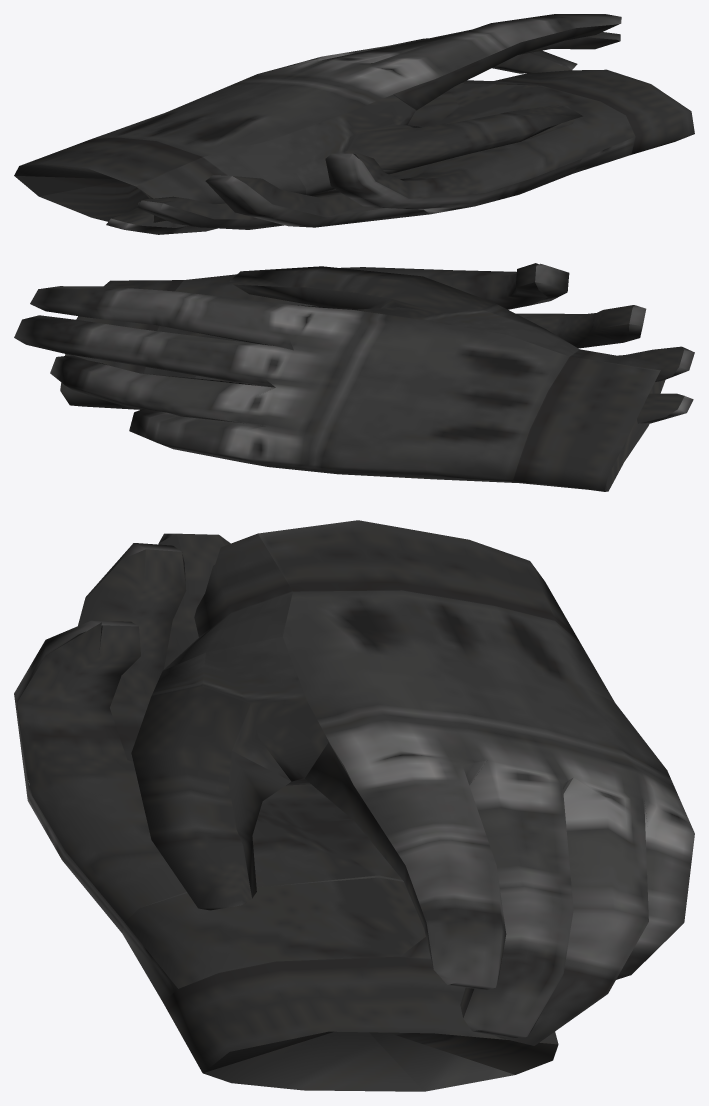
The model's file is GunRunnersGloves_Ground.fbx.
3 renders of one model, top to bottom at view 1: azimuth 30°, elevation 25°; view 2: azimuth 150°, elevation 25°; view 3: azimuth 270°, elevation 25°, orthographic. The views are drawn at different scales.
Visible parts, largest first — view 1: GLOVES; view 2: GLOVES; view 3: GLOVES.
Boxes of the visible parts, x1,y1,x2,y2 form: GLOVES: (14, 14, 694, 234); GLOVES: (14, 263, 694, 491); GLOVES: (14, 520, 694, 1091).
Bounding box in the file's own units: 0.1543 × 0.0324 × 0.0952.
